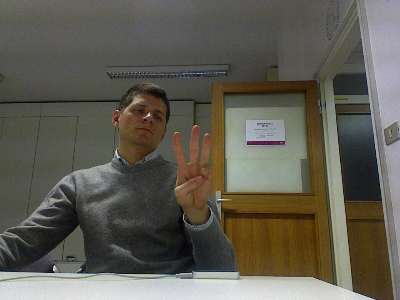三分: (170, 122, 215, 211)
